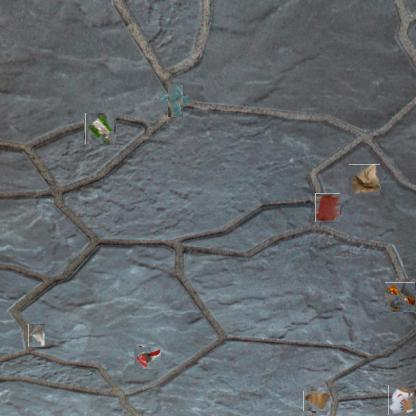dirty: (349, 164, 380, 195), (85, 113, 115, 144), (387, 280, 416, 309), (388, 385, 415, 415), (134, 346, 160, 370), (305, 390, 329, 413), (28, 323, 45, 347)
liquid: (314, 194, 341, 221), (163, 89, 187, 113)
